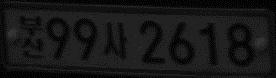1: (196, 22, 223, 66)
2: (138, 18, 166, 64)
6: (167, 21, 195, 66)
8: (226, 22, 255, 68)
9: (72, 16, 99, 61), (45, 16, 71, 59)
부산_V: (18, 14, 45, 60)
사: (101, 20, 130, 61)
